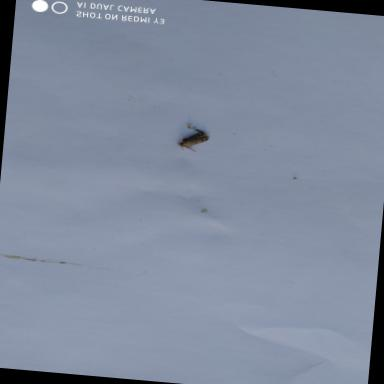pbw: (176, 128, 212, 154)
